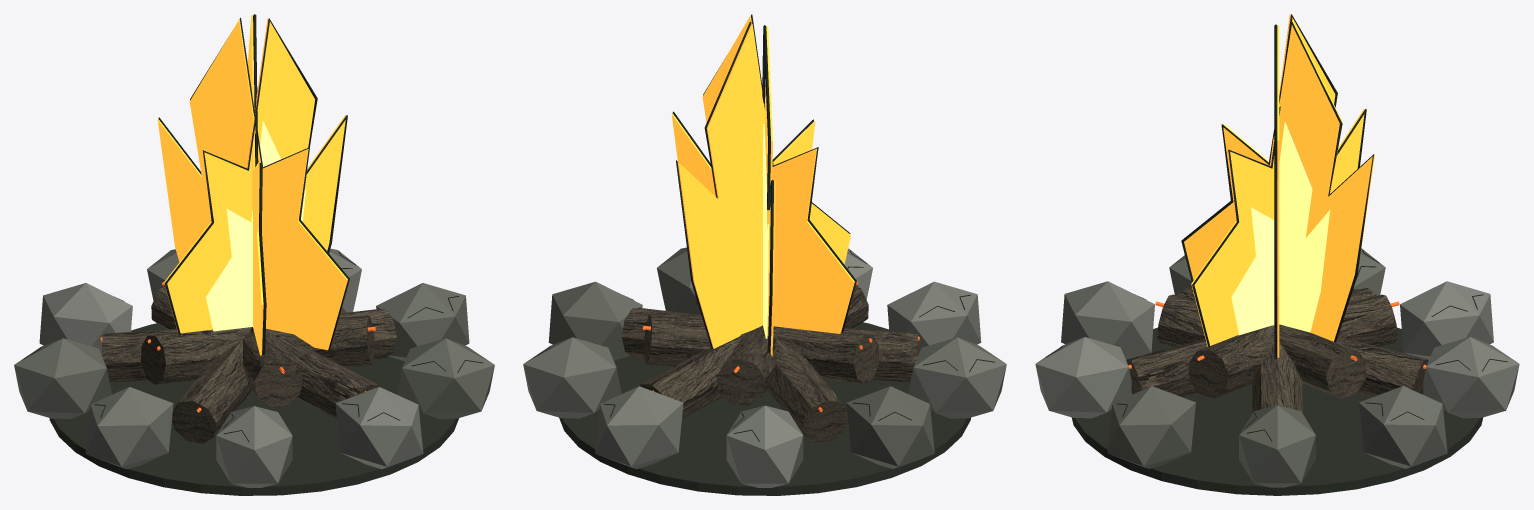
File: MD-05-campfire.glb
3 renders of one model, left to right at view 1: azimuth 30°, elevation 25°; view 2: azimuth 150°, elevation 25°; view 3: azimuth 270°, elevation 25°, orthographic.
Parts seen in each view (by area): view 1: Camp_Flame_2.001, Camp_Ash.001, Camp_Flame_0.001, Camp_Stone_04.001, Camp_Stone_08.001, Camp_Stone_05.001, Camp_Stone_07.001, Camp_Charred_log.005, Camp_Stone_06.001, Camp_Charred_log.007, Camp_Charred_log.008, Camp_Stone_03.001 (+10 smaller); view 2: Camp_Flame_1.001, Camp_Ash.001, Camp_Flame_0.001, Camp_Stone_01.001, Camp_Stone_05.001, Camp_Stone_02.001, Camp_Stone_04.001, Camp_Charred_log.005, Camp_Stone_03.001, Camp_Charred_log.008, Camp_Charred_log.007, Camp_Stone_06.001 (+10 smaller); view 3: Camp_Ash.001, Camp_Flame_1.001, Camp_Flame_2.001, Camp_Flame_core.004, Camp_Stone_07.001, Camp_Stone_02.001, Camp_Stone_08.001, Camp_Stone_01.001, Camp_Stone_06.001, Camp_Stone_03.001, Camp_Stone_00.001, Camp_Charred_log.009 (+11 smaller).
Part boxes in pixels (box(x1,y1,x2,y2)): Camp_Flame_2.001: box(157, 19, 347, 350); Camp_Ash.001: box(49, 323, 458, 495); Camp_Flame_0.001: box(164, 18, 346, 333); Camp_Stone_04.001: box(14, 338, 111, 418); Camp_Stone_08.001: box(397, 338, 494, 418); Camp_Stone_05.001: box(85, 387, 173, 469); Camp_Stone_07.001: box(335, 387, 423, 469); Camp_Charred_log.005: box(141, 309, 396, 384); Camp_Stone_06.001: box(216, 406, 292, 487); Camp_Charred_log.007: box(101, 316, 374, 382); Camp_Charred_log.008: box(172, 339, 252, 443); Camp_Stone_03.001: box(39, 283, 132, 356); Camp_Flame_1.001: box(677, 23, 850, 348); Camp_Ash.001: box(559, 322, 970, 495); Camp_Flame_0.001: box(671, 16, 854, 333); Camp_Stone_01.001: box(523, 337, 621, 418); Camp_Stone_05.001: box(908, 337, 1006, 418); Camp_Stone_02.001: box(595, 386, 683, 469); Camp_Stone_04.001: box(846, 386, 934, 468); Camp_Charred_log.005: box(622, 308, 878, 383); Camp_Stone_03.001: box(726, 405, 803, 487); Camp_Charred_log.008: box(644, 314, 918, 382); Camp_Charred_log.007: box(695, 295, 847, 443); Camp_Stone_06.001: box(887, 281, 981, 355); Camp_Ash.001: box(1071, 327, 1483, 495); Camp_Flame_1.001: box(1184, 21, 1374, 341); Camp_Flame_2.001: box(1191, 14, 1364, 346); Camp_Flame_core.004: box(1279, 122, 1329, 332); Camp_Stone_07.001: box(1035, 337, 1131, 418); Camp_Stone_02.001: box(1423, 337, 1519, 418); Camp_Stone_08.001: box(1107, 386, 1195, 468); Camp_Stone_01.001: box(1359, 386, 1447, 468); Camp_Stone_06.001: box(1061, 281, 1154, 359); Camp_Stone_03.001: box(1400, 281, 1493, 359); Camp_Stone_00.001: box(1239, 405, 1315, 487); Camp_Charred_log.009: box(1126, 294, 1397, 396).
Bounding box in the file's own units: 0.1743 × 0.1575 × 0.1769.
10 materials, 1 textured.
